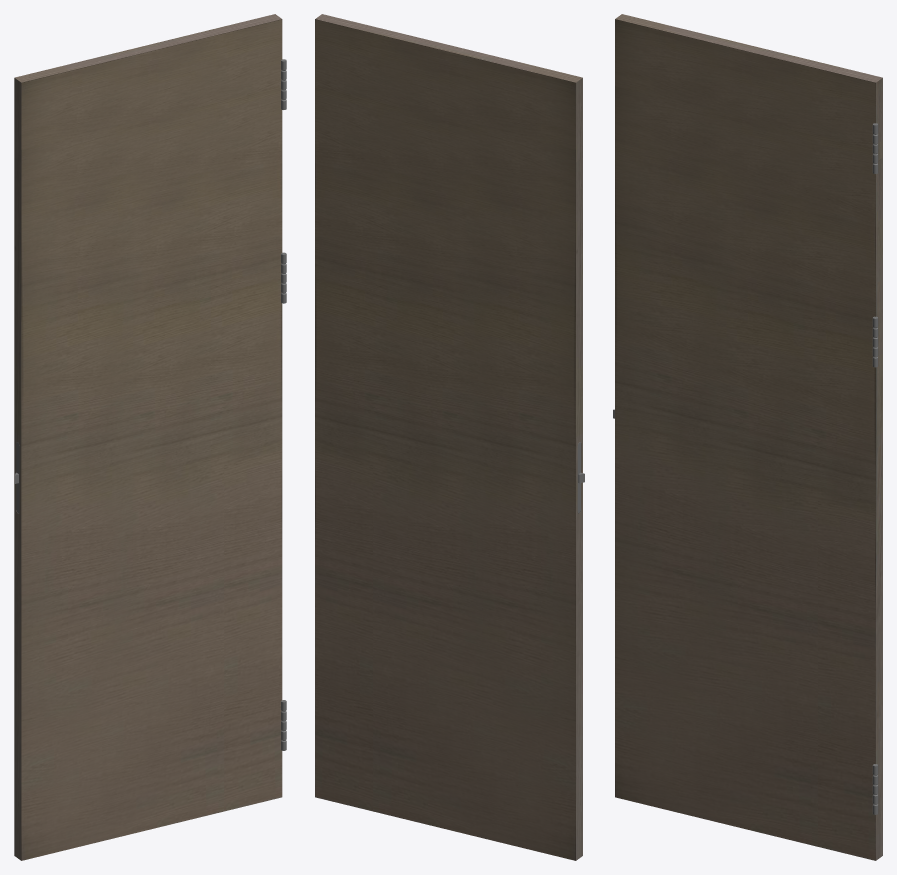
The model's file is 51_ATHENS_Door.glb.
The picture shows the model from 3 angles, left to right: view 1: azimuth 30°, elevation 25°; view 2: azimuth 150°, elevation 25°; view 3: azimuth 330°, elevation 25°; orthographic projection.
Parts seen in each view (by area): view 1: 51_ATHENS_Door; view 2: 51_ATHENS_Door; view 3: 51_ATHENS_Door.
Part boxes in pixels (x1,y1,x2,y2): 51_ATHENS_Door: (14,14,286,860); 51_ATHENS_Door: (315,14,584,860); 51_ATHENS_Door: (613,14,882,860).
Bounding box in the file's own units: 0.7935 × 2.2 × 0.048.
Materials: 3 (1 with a texture image).
